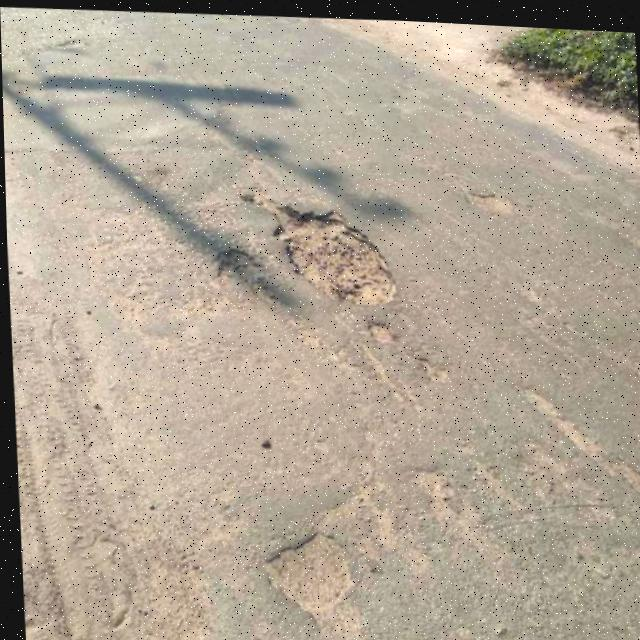Pothole: (242, 183, 401, 306), (252, 518, 363, 635), (210, 240, 279, 304), (611, 444, 640, 504), (459, 179, 513, 211)
